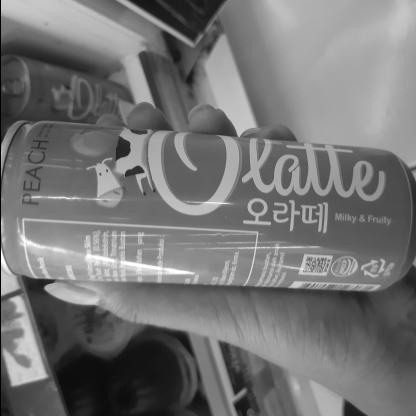alumunium_can: (0, 119, 416, 308)
